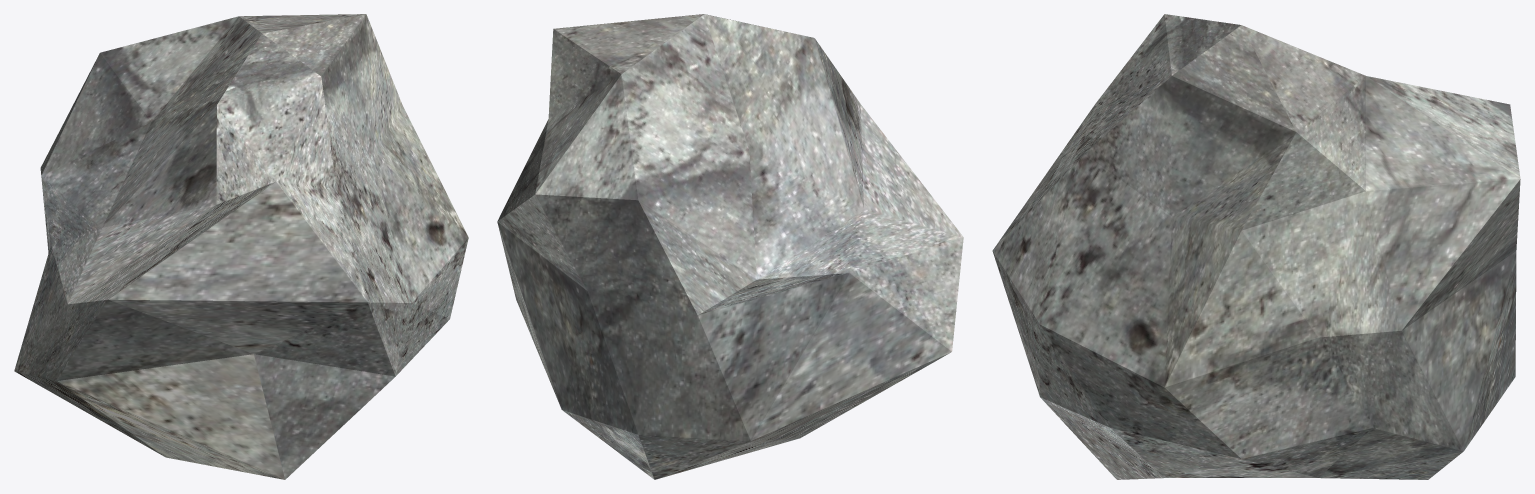
Rendered from Rock.fbx.
3 views of the same model, side by side, from view 1: azimuth 30°, elevation 25°; view 2: azimuth 150°, elevation 25°; view 3: azimuth 270°, elevation 25° (orthographic). The views are drawn at different scales.
Visible parts, largest first — view 1: Icosphere; view 2: Icosphere; view 3: Icosphere.
Part boxes in pixels (box(x1,y1,x2,y2)): Icosphere: box(14, 14, 468, 479); Icosphere: box(497, 14, 963, 479); Icosphere: box(992, 14, 1520, 479).
Size of the model in its own units: 231 by 209 by 212.
